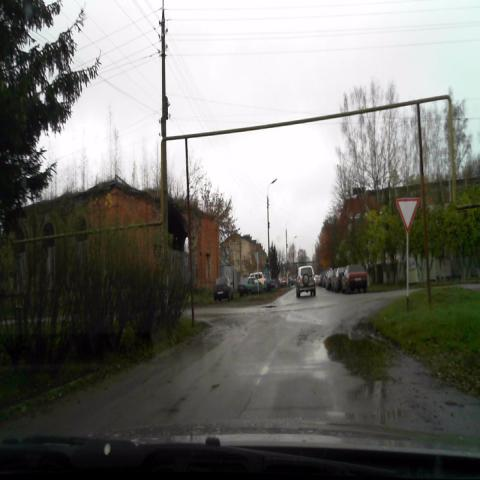2_4: (396, 197, 420, 232)
